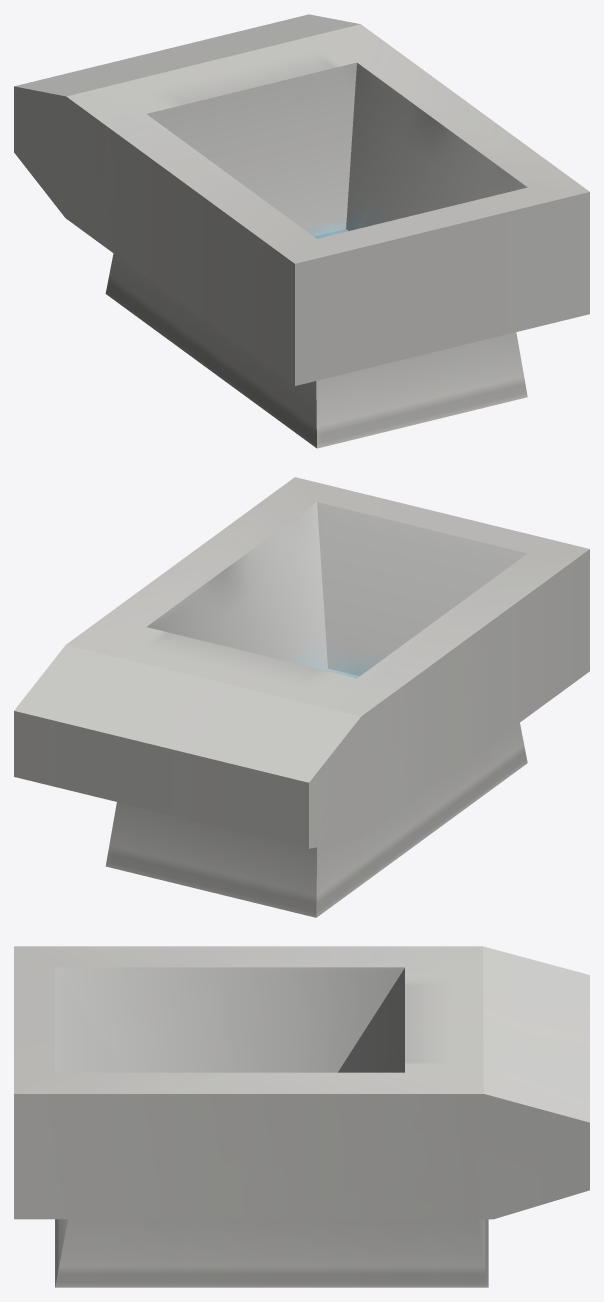
The model's file is Toilet_Seat_3.fbx.
3 views of the same model, one above another, from view 1: azimuth 30°, elevation 25°; view 2: azimuth 150°, elevation 25°; view 3: azimuth 270°, elevation 25° (orthographic). The views are drawn at different scales.
Visible parts, largest first — view 1: polySurface1547; view 2: polySurface1547; view 3: polySurface1547.
Boxes of the visible parts, <box> form: polySurface1547: <box>14,14,589,448</box>; polySurface1547: <box>14,477,589,917</box>; polySurface1547: <box>14,946,589,1287</box>.
Size of the model in its own units: 0.2907 by 0.1975 by 0.4795.
